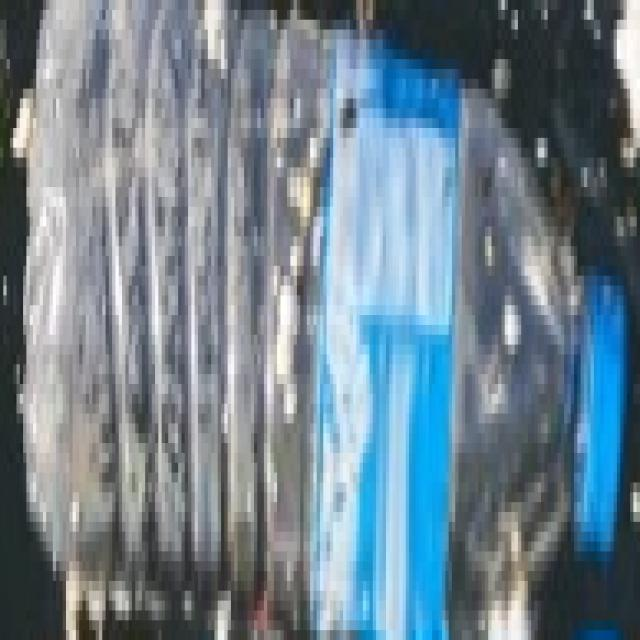bulb: (28, 0, 640, 630)
